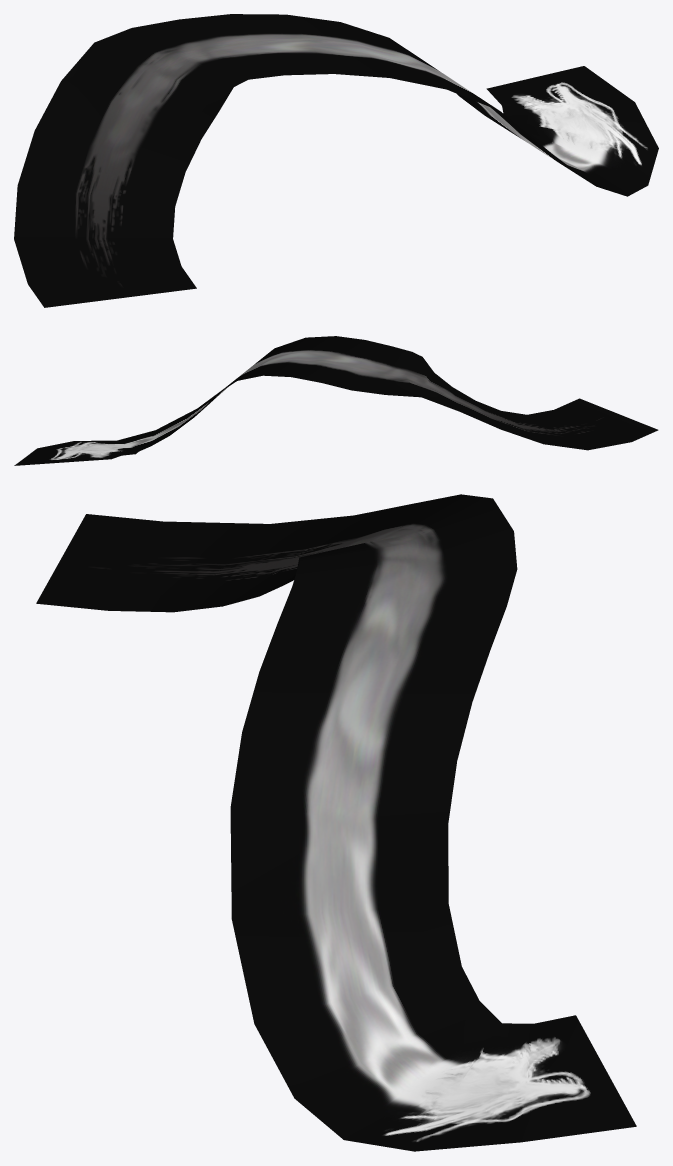
File: WK_juqitiaodai01.FBX
3 renders of one model, top to bottom at view 1: azimuth 30°, elevation 25°; view 2: azimuth 150°, elevation 25°; view 3: azimuth 270°, elevation 25°, orthographic. The views are drawn at different scales.
Parts seen in each view (by area): view 1: WK_juqitiaodai01; view 2: WK_juqitiaodai01; view 3: WK_juqitiaodai01.
Boxes of the visible parts, bbox=[...] form: WK_juqitiaodai01: bbox=[14, 14, 658, 307]; WK_juqitiaodai01: bbox=[14, 336, 658, 465]; WK_juqitiaodai01: bbox=[36, 494, 636, 1151].
Bounding box in the file's own units: 478 × 137 × 243.
